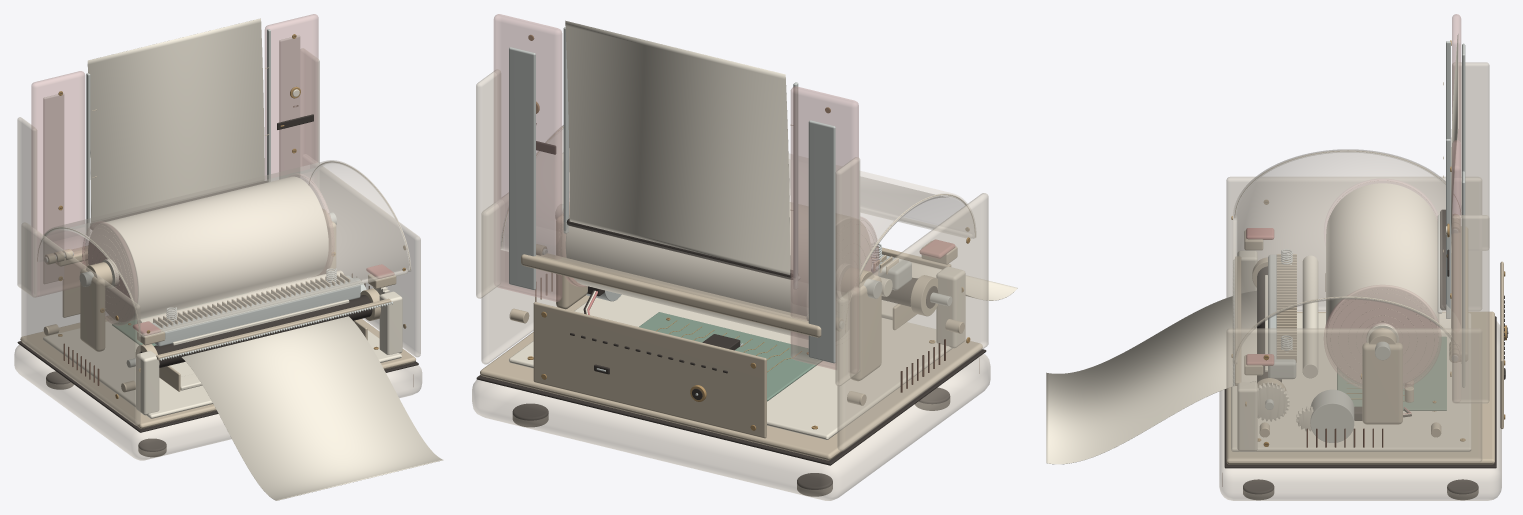
File: printer.glb
3 views of the same model, side by side, from view 1: azimuth 30°, elevation 25°; view 2: azimuth 150°, elevation 25°; view 3: azimuth 270°, elevation 25° (orthographic). The views are drawn at different scales.
Parts seen in each view (by area): view 1: Thermoformed opal acrylic hood, Blank input paper, Blank output paper • continuous curve, Paper supply roll, Acrylic side cheek, Rear upright • rose acrylic, Acrylic side cheek.001, Rear upright • rose acrylic.001, Lower opal acrylic base, Inset warm porcelain deck, Thermal printhead housing, Rear aluminium spine (+18 smaller); view 2: Blank input paper, Acrylic side cheek, Thermoformed opal acrylic hood, Lower opal acrylic base, Rear service panel, Inset warm porcelain deck, Paper supply roll, Rear upright • rose acrylic.001, Rear upright • rose acrylic, Champagne chassis pan, Rear aluminium spine, Rear aluminium spine.001 (+18 smaller); view 3: Acrylic side cheek.001, Thermoformed opal acrylic hood, Blank output paper • continuous curve, Paper supply roll, Acrylic side cheek, Lower opal acrylic base, Inset warm porcelain deck, Paper spool rose end flange.001, Upright edge return.001, Champagne chassis pan, Upright edge return, Roll bearing mount.001 (+25 smaller).
Part boxes in pixels (x1,y1,x2,y2): Thermoformed opal acrylic hood: (43,160,411,336); Blank input paper: (87,18,264,222); Blank output paper • continuous curve: (181,316,443,500); Paper supply roll: (88,176,328,321); Acrylic side cheek: (21,222,140,425); Rear upright • rose acrylic: (31,71,85,297); Acrylic side cheek.001: (302,155,420,357); Rear upright • rose acrylic.001: (264,14,318,180); Lower opal acrylic base: (14,345,422,460); Inset warm porcelain deck: (43,280,401,418); Thermal printhead housing: (152,275,360,346); Rear aluminium spine: (43,93,64,283); Blank input paper: (565,20,790,274); Acrylic side cheek: (837,193,988,451); Thermoformed opal acrylic hood: (500,125,973,331); Lower opal acrylic base: (472,354,990,500); Rear service panel: (533,302,766,438); Inset warm porcelain deck: (508,294,952,439); Paper supply roll: (565,202,871,340); Rear upright • rose acrylic.001: (493,14,562,301); Rear upright • rose acrylic: (790,86,858,372); Champagne chassis pan: (480,295,982,460); Rear aluminium spine: (808,120,835,363); Rear aluminium spine.001: (509,47,535,289); Acrylic side cheek.001: (1226,328,1482,462); Thermoformed opal acrylic hood: (1232,149,1461,363); Blank output paper • continuous curve: (1046,291,1256,464); Paper supply roll: (1326,183,1439,383); Acrylic side cheek: (1226,176,1481,311); Lower opal acrylic base: (1219,321,1501,500); Inset warm porcelain deck: (1231,313,1470,451); Paper spool rose end flange.001: (1324,285,1441,388); Upright edge return.001: (1452,215,1489,403); Champagne chassis pan: (1226,311,1494,464); Upright edge return: (1452,62,1489,250); Roll bearing mount.001: (1362,343,1402,424).
Size of the model in its own units: 0.236 by 0.248 by 0.2941.
